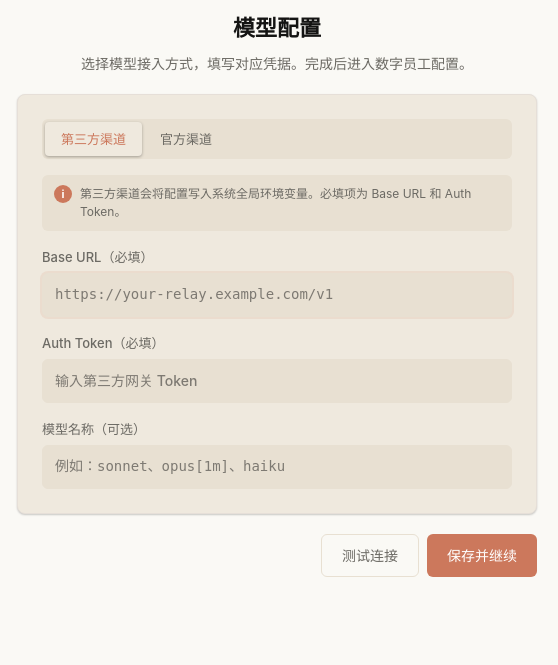
it: ModelConfig Page › Validation › shows error for missing auth token in third-party mode
The width and height of the screenshot is (558, 665).
In the field with placeholder "https://your-relay.example.com/v1": (277, 295) x1=42 y1=273 x2=512 y2=317, type "https://example.com/v1"
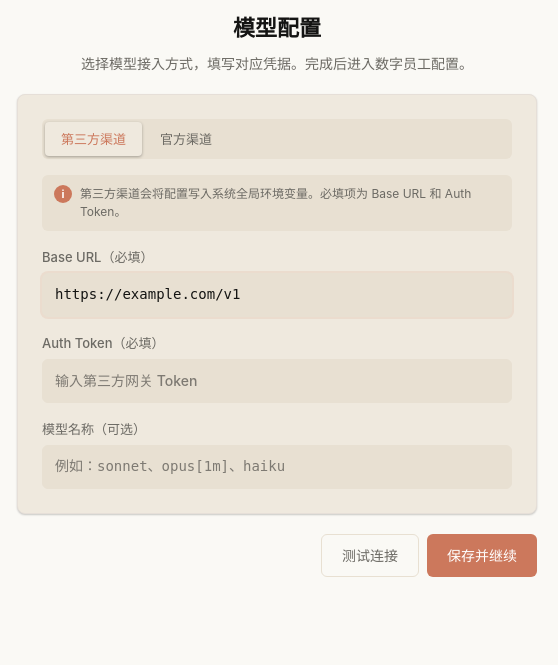
Click the button "保存并继续": click(482, 556) x1=427 y1=534 x2=537 y2=577
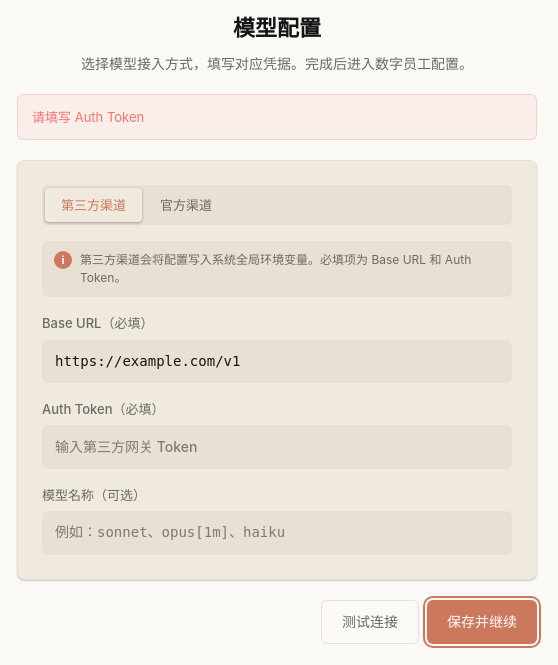
Expected: the text "请填写 Auth Token" is shown, x1=17 y1=94 x2=537 y2=140
